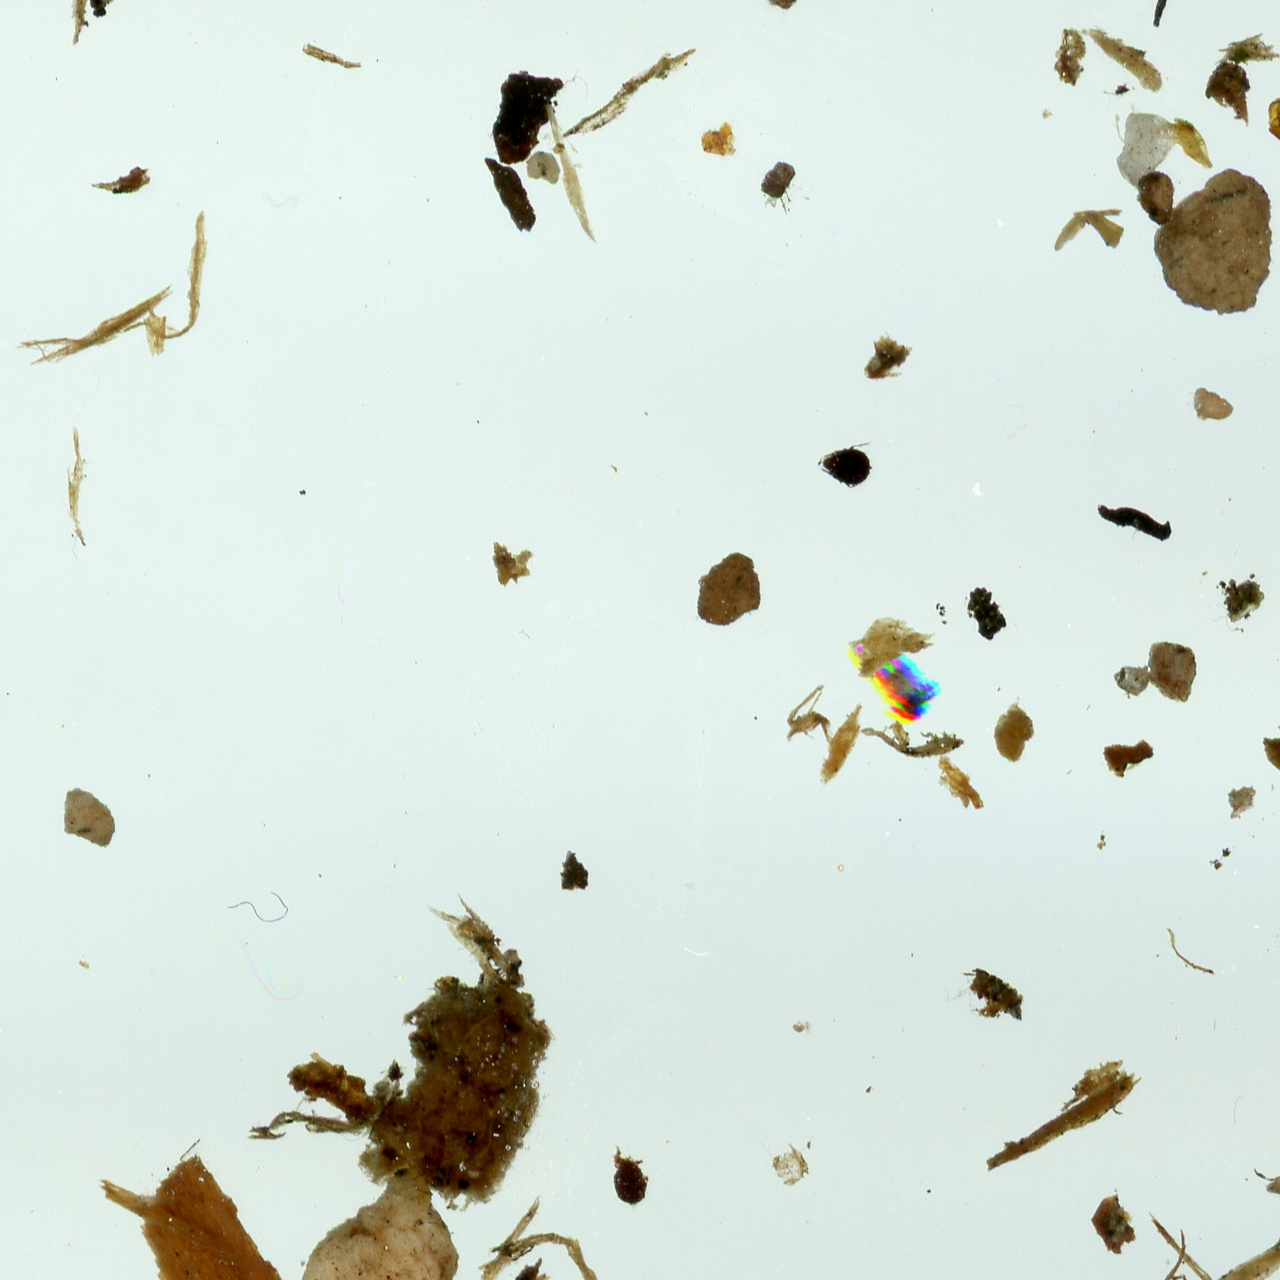arthropod: (816, 438, 874, 490), (612, 1143, 651, 1206)
